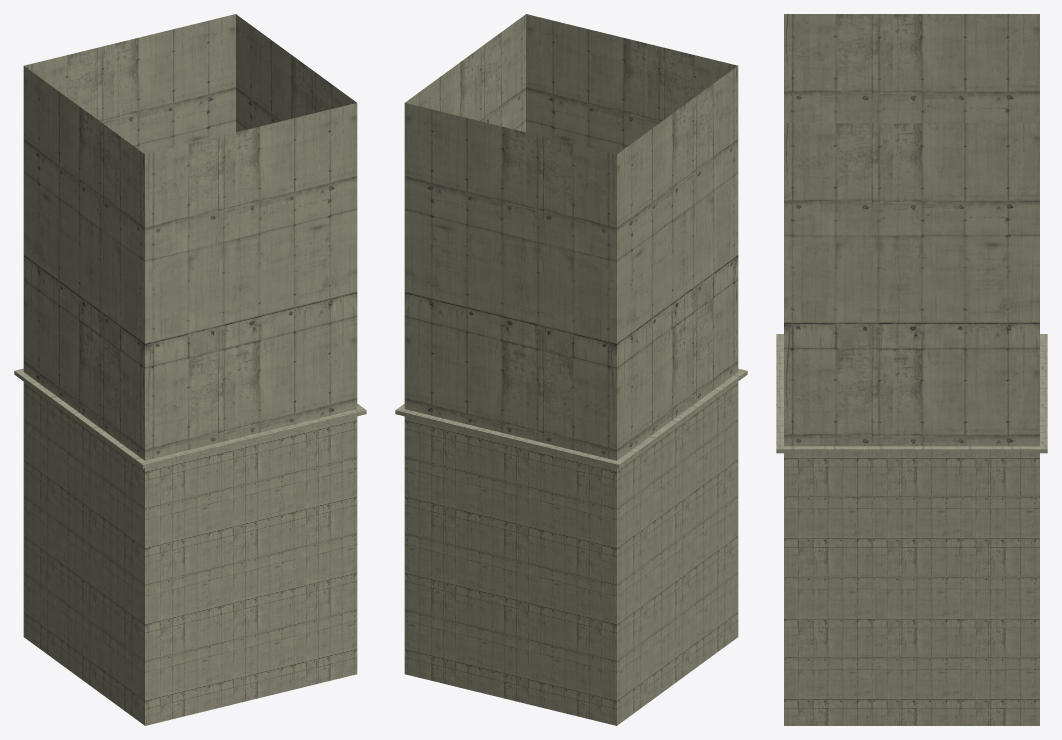
Rendered from SM_NeoLD_12_Block01.fbx.
3 renders of one model, left to right at view 1: azimuth 30°, elevation 25°; view 2: azimuth 150°, elevation 25°; view 3: azimuth 270°, elevation 25°, orthographic. The views are drawn at different scales.
Parts seen in each view (by area): view 1: SM_NeoLD_12_Block01.001, SM_NeoLD_12_Block01; view 2: SM_NeoLD_12_Block01.001, SM_NeoLD_12_Block01; view 3: SM_NeoLD_12_Block01.001, SM_NeoLD_12_Block01.
Part boxes in pixels (x1,y1,x2,y2): SM_NeoLD_12_Block01.001: (23, 14, 357, 460); SM_NeoLD_12_Block01: (14, 368, 366, 725); SM_NeoLD_12_Block01.001: (404, 14, 738, 460); SM_NeoLD_12_Block01: (395, 368, 747, 725); SM_NeoLD_12_Block01.001: (784, 14, 1039, 446); SM_NeoLD_12_Block01: (776, 334, 1047, 725).
Size of the model in its own units: 9548 by 23296 by 9503.
